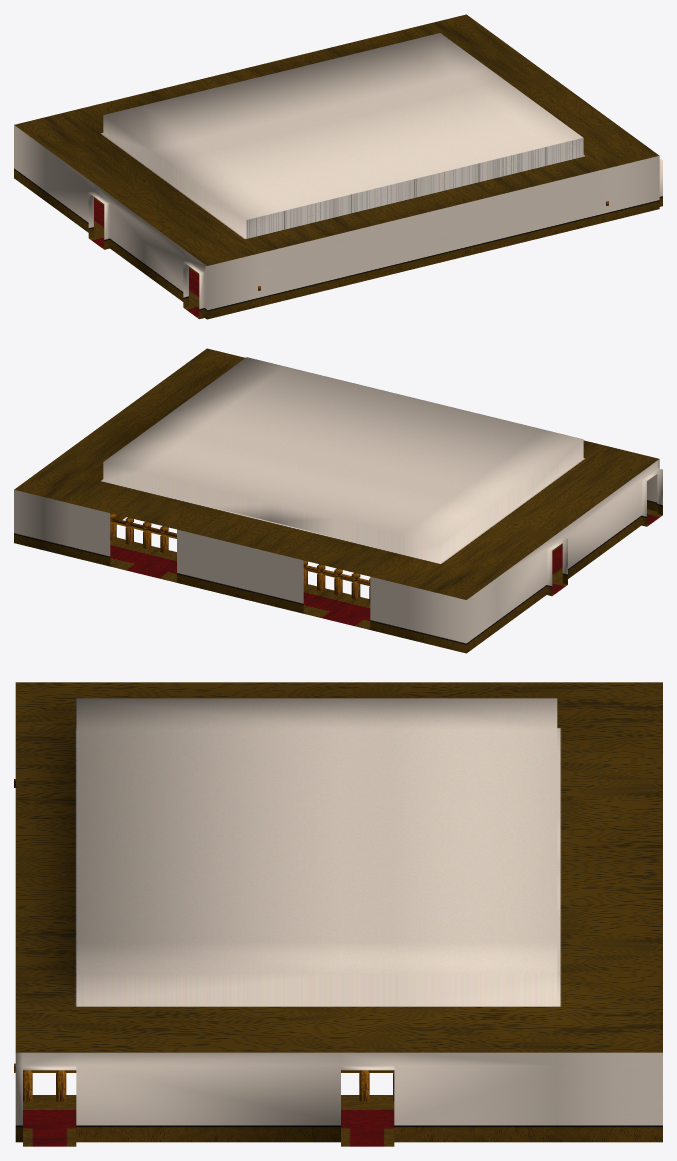
The model's file is second_floor_ceiling.fbx.
The picture shows the model from 3 angles, top to bottom: view 1: azimuth 30°, elevation 25°; view 2: azimuth 150°, elevation 25°; view 3: azimuth 270°, elevation 25°; orthographic projection. The views are drawn at different scales.
Parts seen in each view (by area): view 1: obj9, obj1, obj8; view 2: obj9, obj1, obj8, obj2, obj4; view 3: obj9, obj1, obj8, obj2.
Boxes of the visible parts, <box> form: obj9: <box>14,14,659,265</box>; obj1: <box>14,125,662,319</box>; obj8: <box>89,197,199,318</box>; obj9: <box>14,348,658,599</box>; obj1: <box>14,459,662,653</box>; obj8: <box>110,509,662,629</box>; obj2: <box>110,513,370,603</box>; obj4: <box>113,518,369,585</box>; obj9: <box>15,682,662,1052</box>; obj1: <box>15,1052,662,1142</box>; obj8: <box>23,1095,394,1146</box>; obj2: <box>23,1070,394,1101</box>.
Bounding box in the file's own units: 2132 × 317 × 1540.
Materials: 2 (2 with a texture image).
